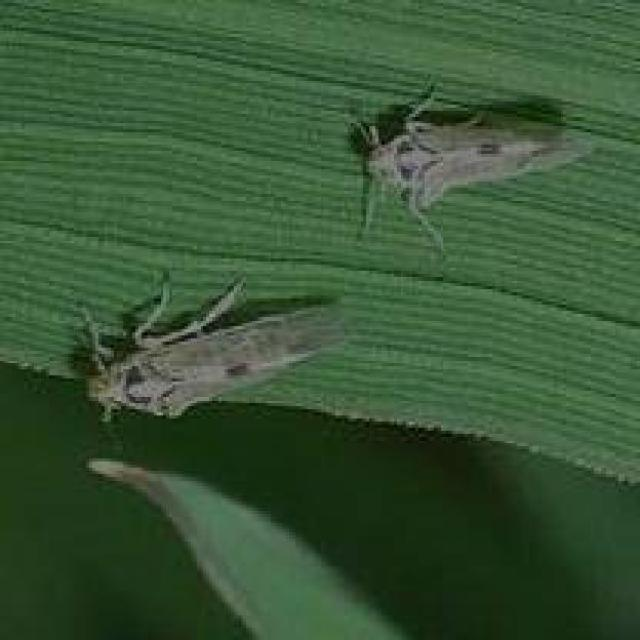brown-planthopper: (81, 293, 361, 422), (364, 117, 596, 198)
